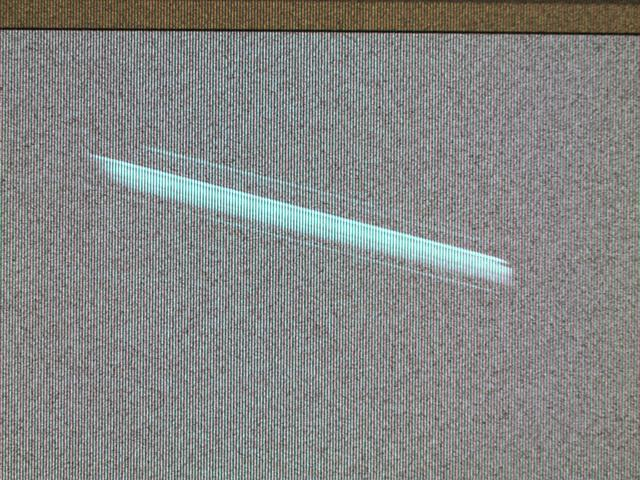SCRATCH: (67, 138, 520, 305)
